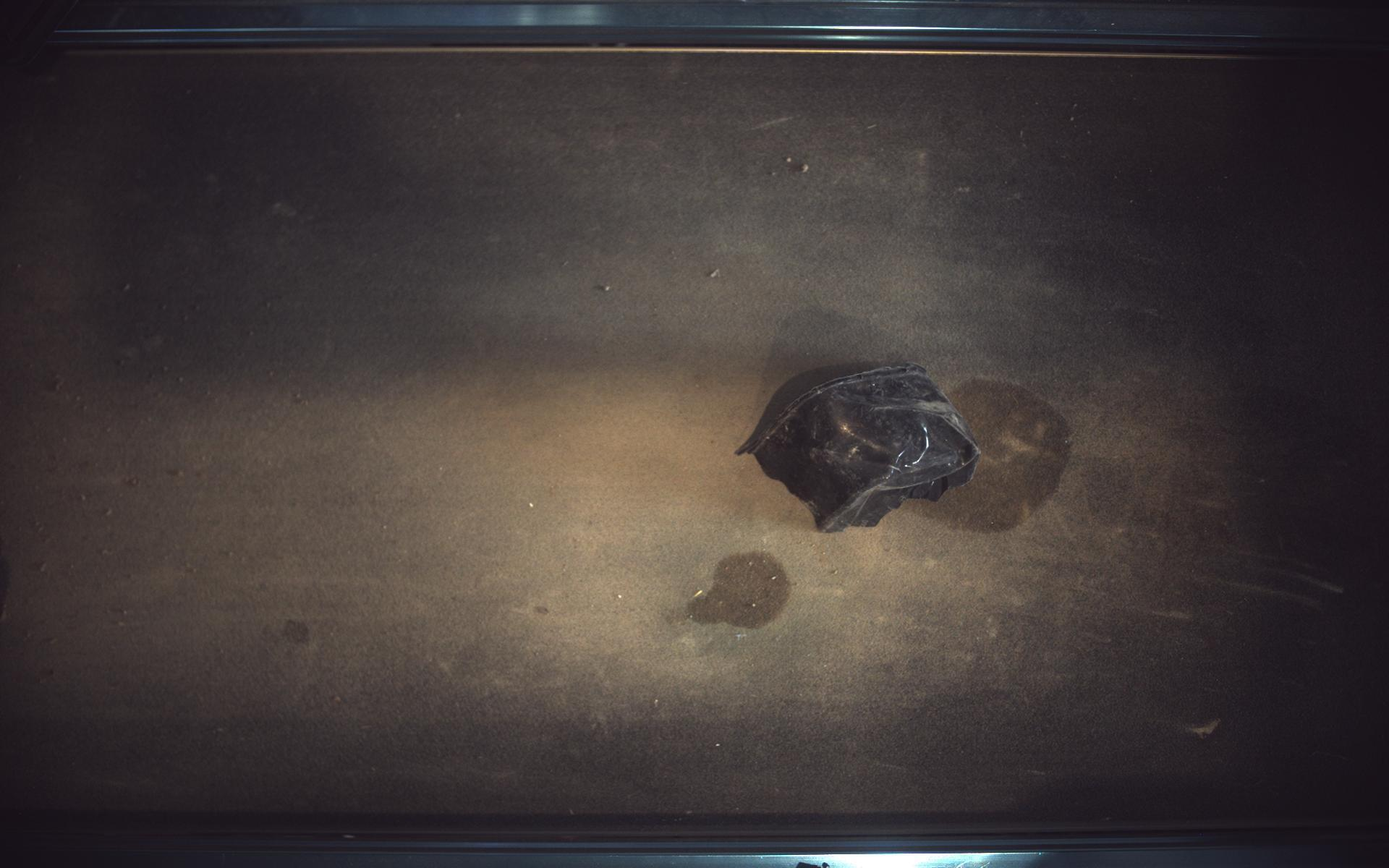general_w: (736, 362, 982, 532)
